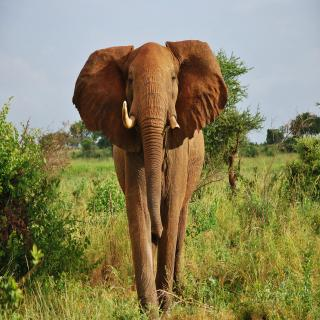Elephant: (70, 36, 230, 320)
